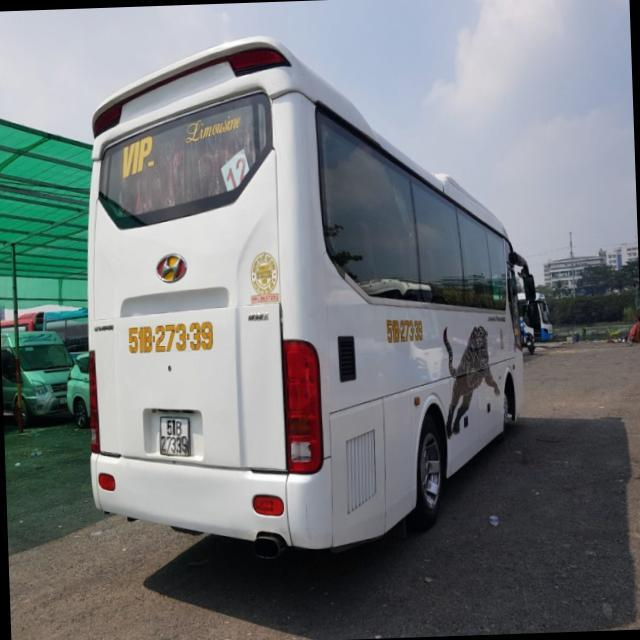car: (80, 7, 542, 561), (4, 323, 86, 430)
plate: (148, 407, 204, 464)
